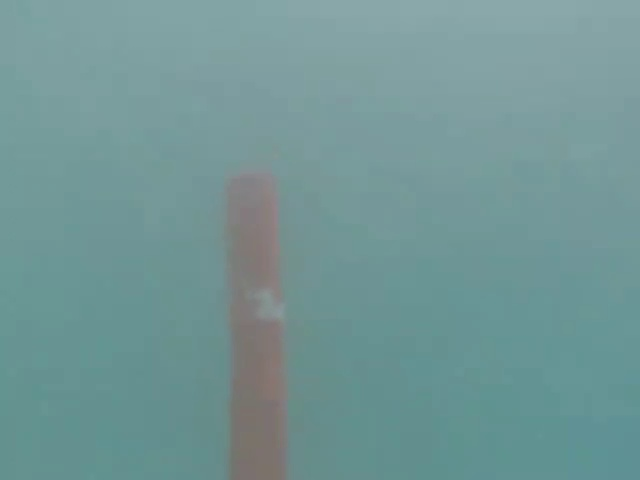flare: (210, 155, 304, 480)
